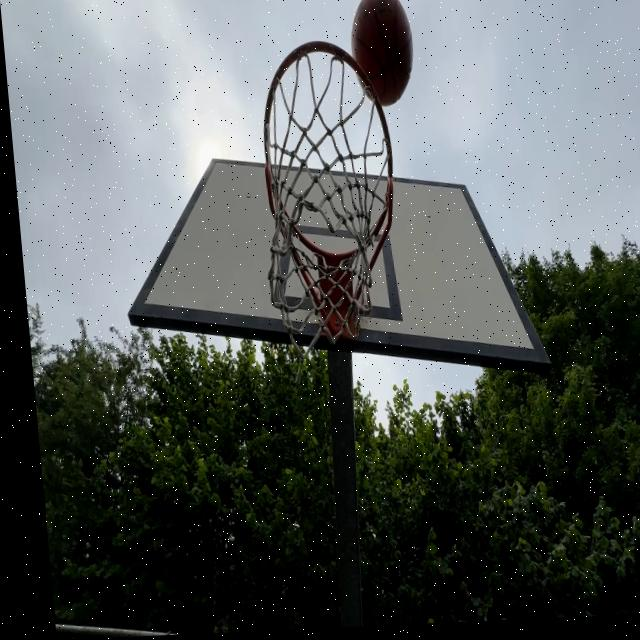rebound_hit: (344, 0, 419, 111)
